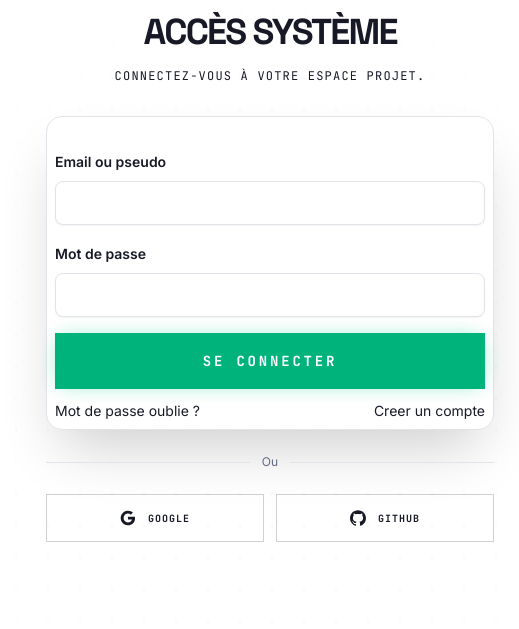
Login Page › displays error message on failure
Type "wrong@example.com" into the field labelled "Email ou pseudo" at (270, 203), box [55, 181, 485, 225]
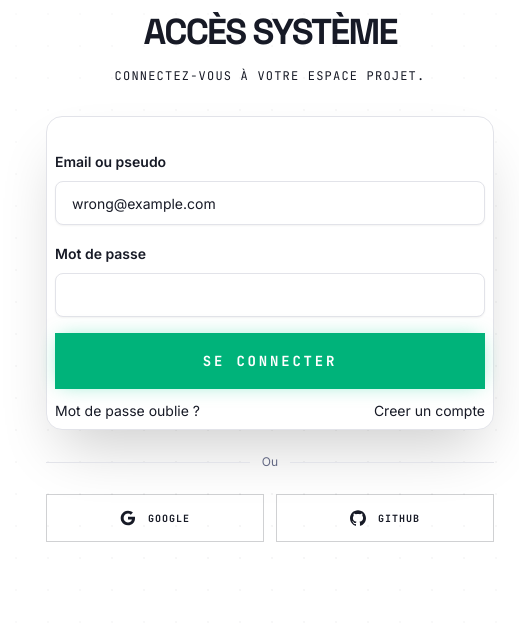
Type "wrongpass" into the password field labelled "Mot de passe" at (270, 295), box [55, 273, 485, 317]
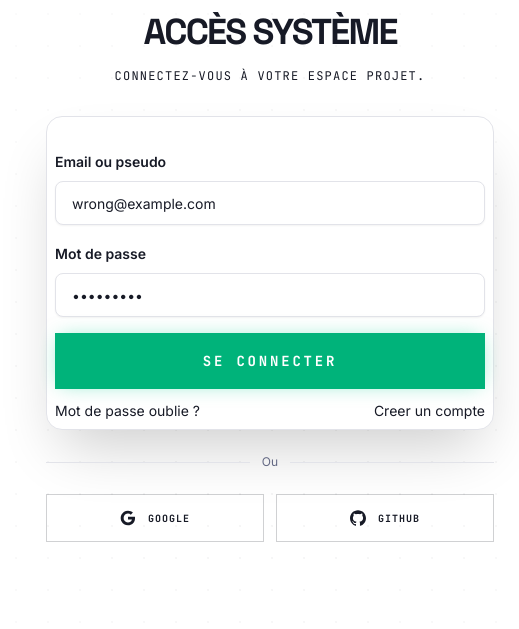
Click the button "SE CONNECTER" at (270, 361), box [55, 333, 485, 389]
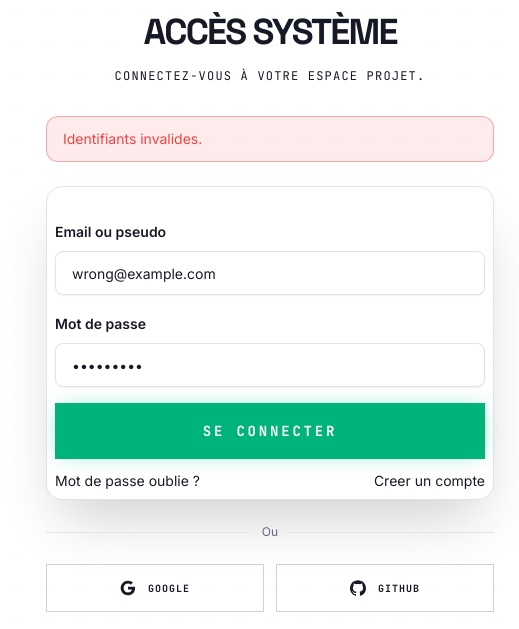
Expected: the text "Identifiants invalides." is shown, [46, 116, 494, 162]
